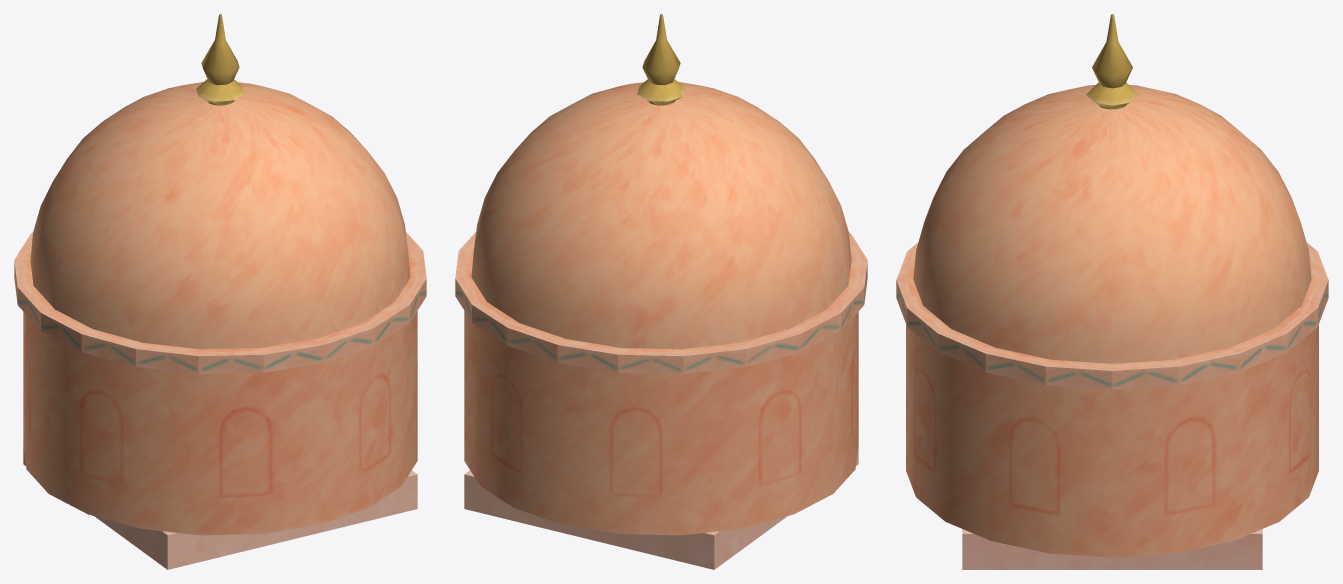
File: dome.fbx
The picture shows the model from 3 angles, left to right: view 1: azimuth 30°, elevation 25°; view 2: azimuth 150°, elevation 25°; view 3: azimuth 270°, elevation 25°; orthographic projection. The views are drawn at different scales.
Visible parts, largest first — view 1: dome; view 2: dome; view 3: dome.
Boxes of the visible parts, x1,y1,x2,y2 form: dome: (14,14,426,569); dome: (455,14,867,569); dome: (896,14,1328,569).
Size of the model in its own units: 11.5 by 14.45 by 11.5.
1 material, 1 textured.
